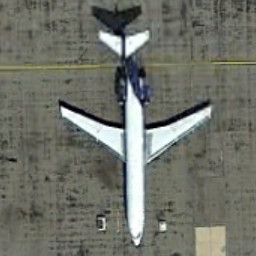Airplane: (53, 23, 216, 249)
